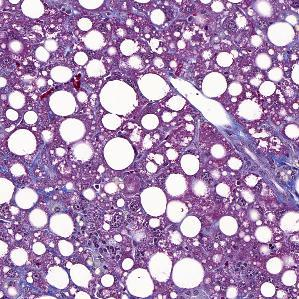fibrosis: (220, 128, 297, 183)
